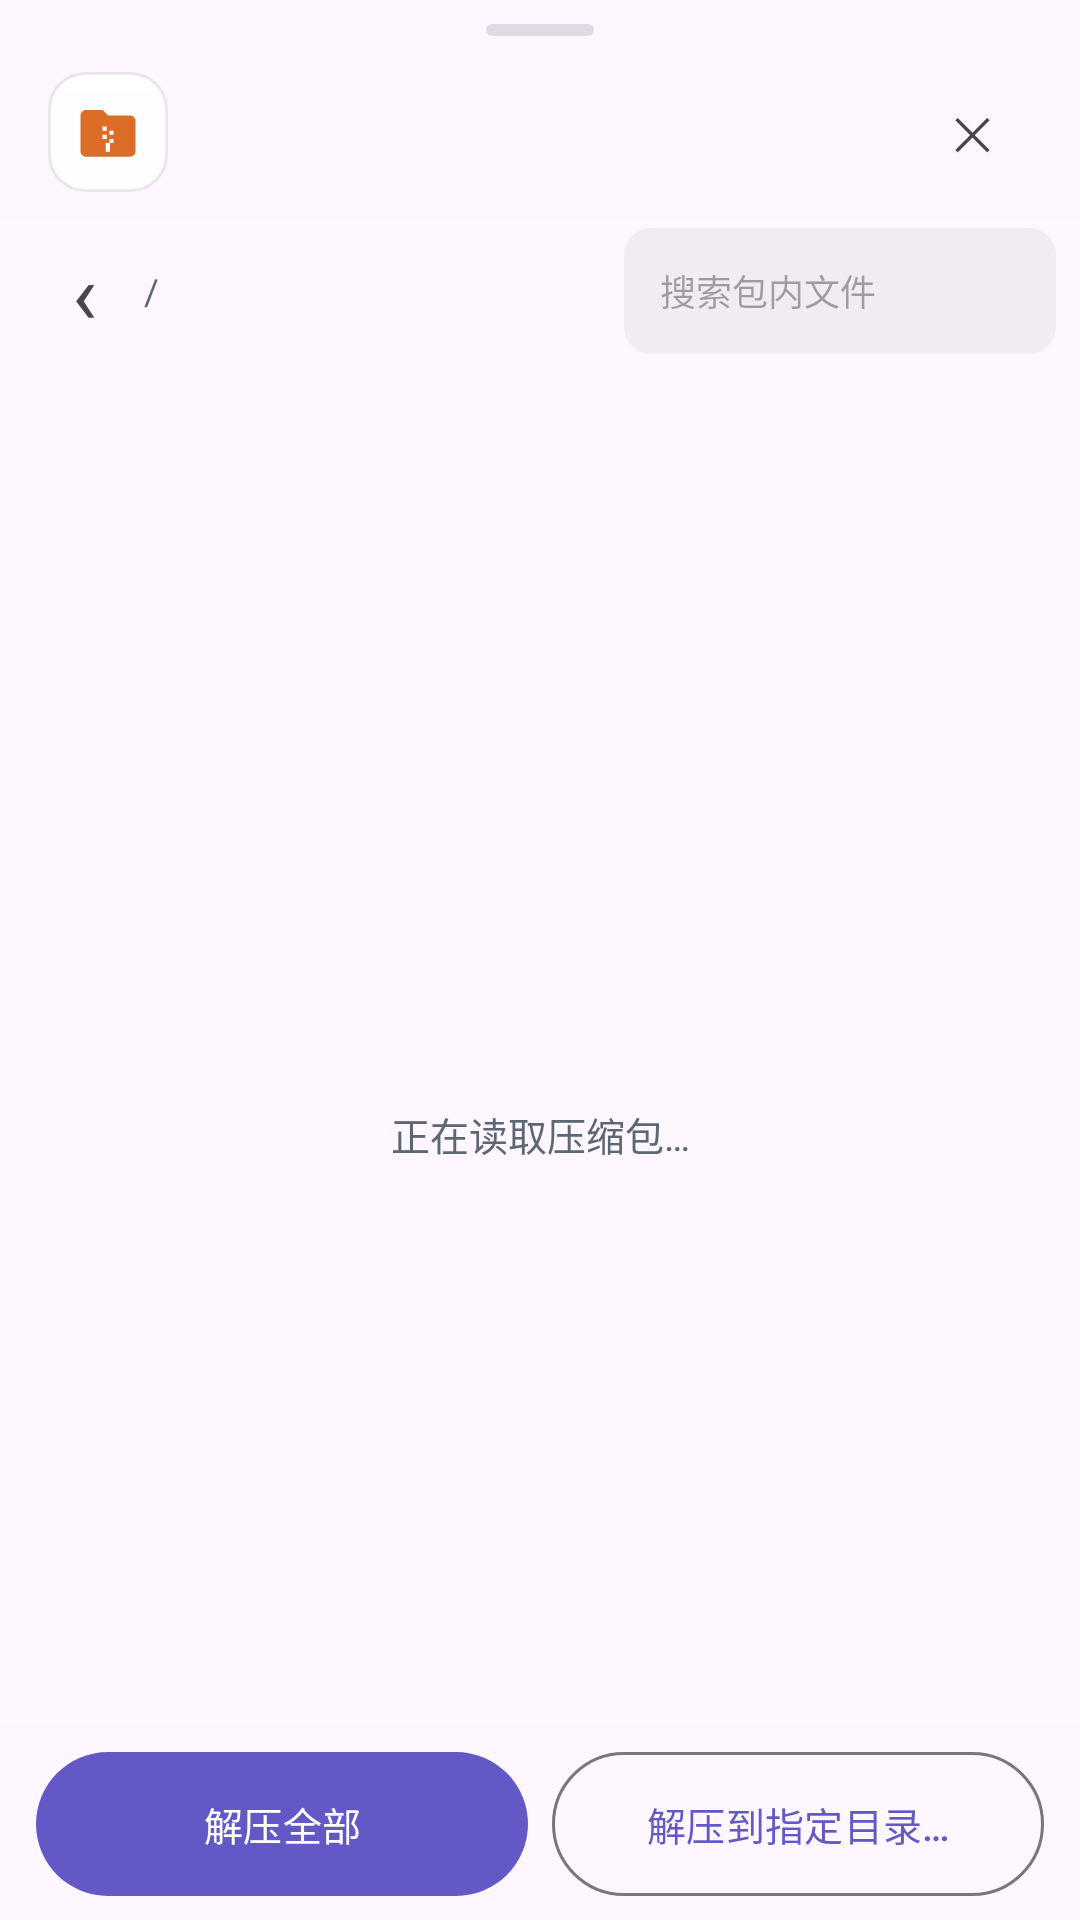

Icons on this 1080×1920 Android screen, each with its box as [left=x1, top=y1, right=x2, bottom=y2]:
压缩包: [left=80, top=110, right=136, bottom=157]
